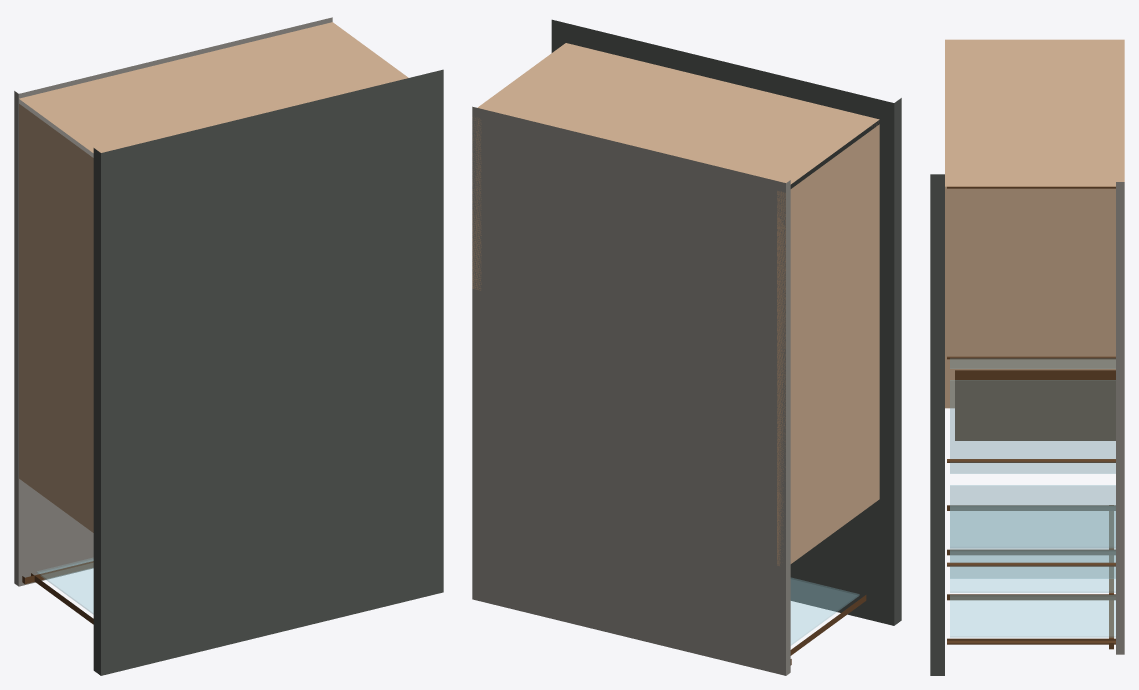
File: mid-century-house.glb
The picture shows the model from 3 angles, left to right: view 1: azimuth 30°, elevation 25°; view 2: azimuth 150°, elevation 25°; view 3: azimuth 270°, elevation 25°; orthographic projection. The views are drawn at different scales.
Visible parts, largest first — view 1: Mid-century modern glass house; view 2: Mid-century modern glass house; view 3: Mid-century modern glass house.
Part boxes in pixels (x1=…): Mid-century modern glass house: x1=14, y1=17, x2=443, y2=675; Mid-century modern glass house: x1=472, y1=19, x2=901, y2=675; Mid-century modern glass house: x1=930, y1=39, x2=1124, y2=675.
Size of the model in its own units: 13.1 by 19.1 by 6.7.
